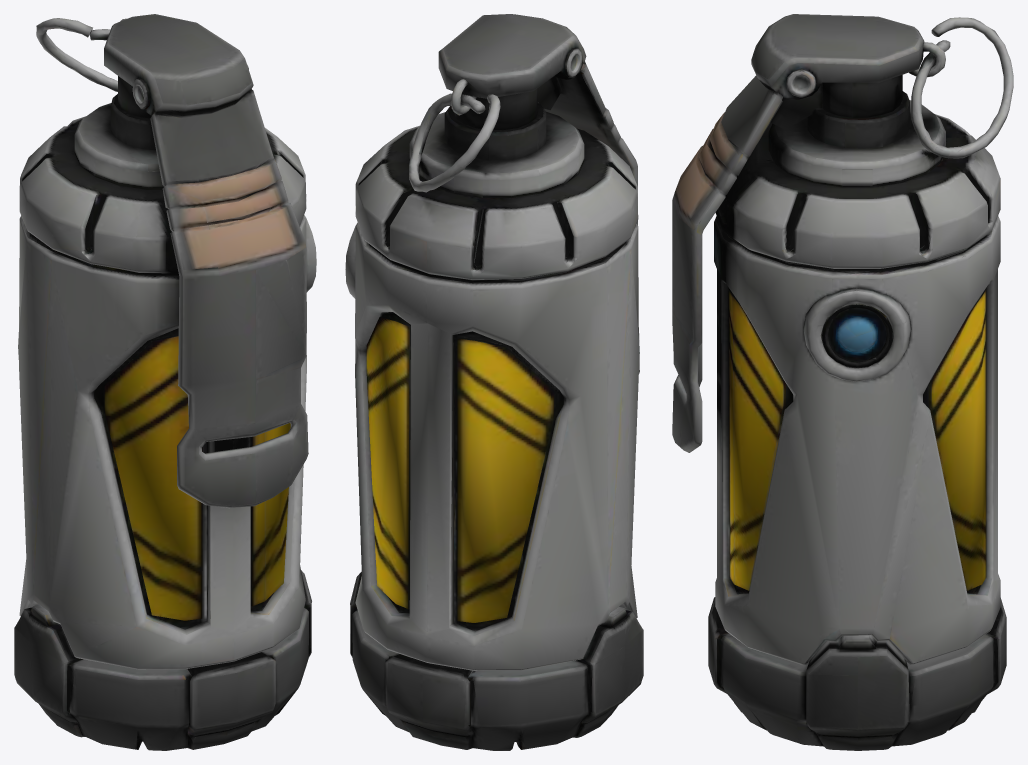
Rendered from weapon-grenade-flash-v1.glb.
3 renders of one model, left to right at view 1: azimuth 30°, elevation 25°; view 2: azimuth 150°, elevation 25°; view 3: azimuth 270°, elevation 25°, orthographic.
Visible parts, largest first — view 1: weapon-grenade-flash-v1; view 2: weapon-grenade-flash-v1; view 3: weapon-grenade-flash-v1.
Part boxes in pixels (x1,y1,x2,y2): weapon-grenade-flash-v1: [14, 14, 316, 750]; weapon-grenade-flash-v1: [345, 14, 643, 750]; weapon-grenade-flash-v1: [672, 14, 1013, 750].
Bounding box in the file's own units: 0.0613 × 0.15 × 0.0696.
1 material, 1 textured.
